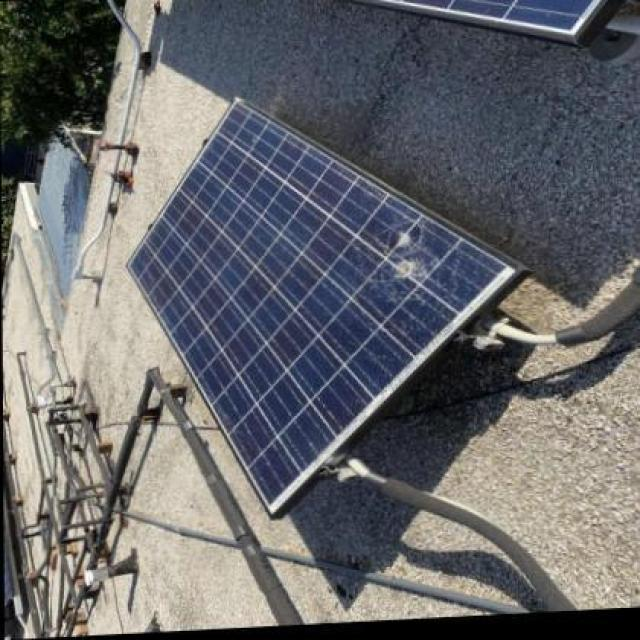cracked: (123, 99, 528, 518)
